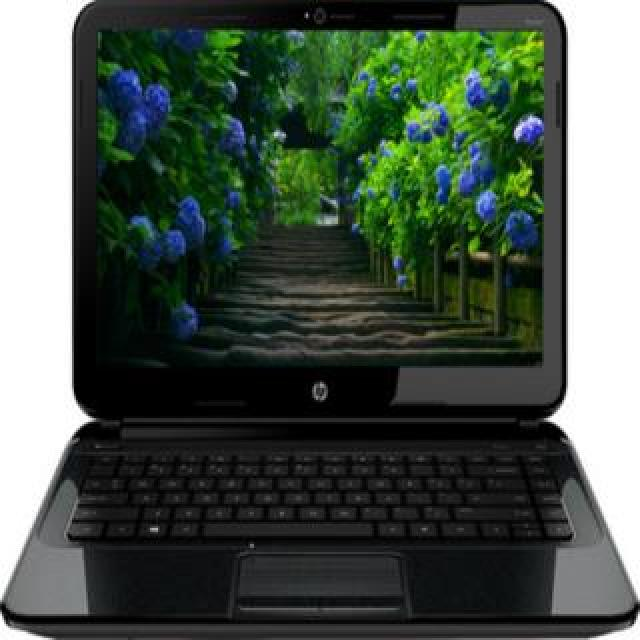laptop_computer: (42, 16, 636, 640)
